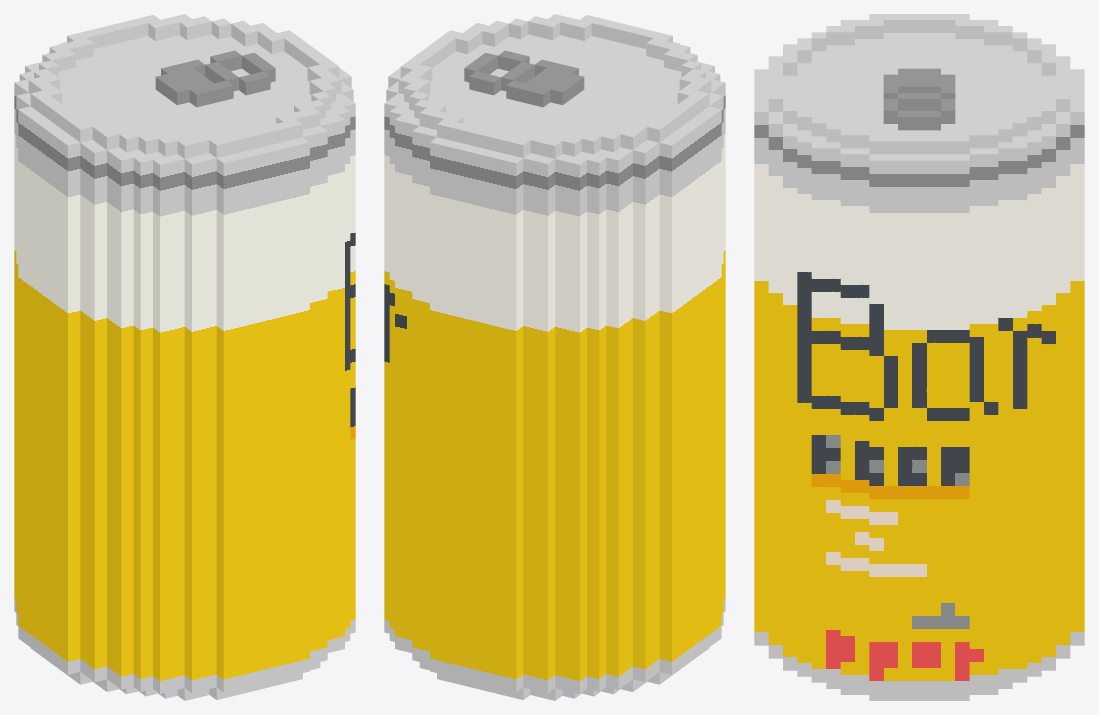
File: 杰哥啤酒.gltf
3 renders of one model, left to right at view 1: azimuth 30°, elevation 25°; view 2: azimuth 150°, elevation 25°; view 3: azimuth 270°, elevation 25°, orthographic.
Parts seen in each view (by area): view 1: Object; view 2: Object; view 3: Object.
Boxes of the visible parts, bbox=[...] form: Object: bbox=[14, 14, 355, 700]; Object: bbox=[384, 14, 725, 700]; Object: bbox=[754, 14, 1084, 700].
Size of the model in its own units: 23 by 43 by 23.
Materials: 1 (1 with a texture image).
